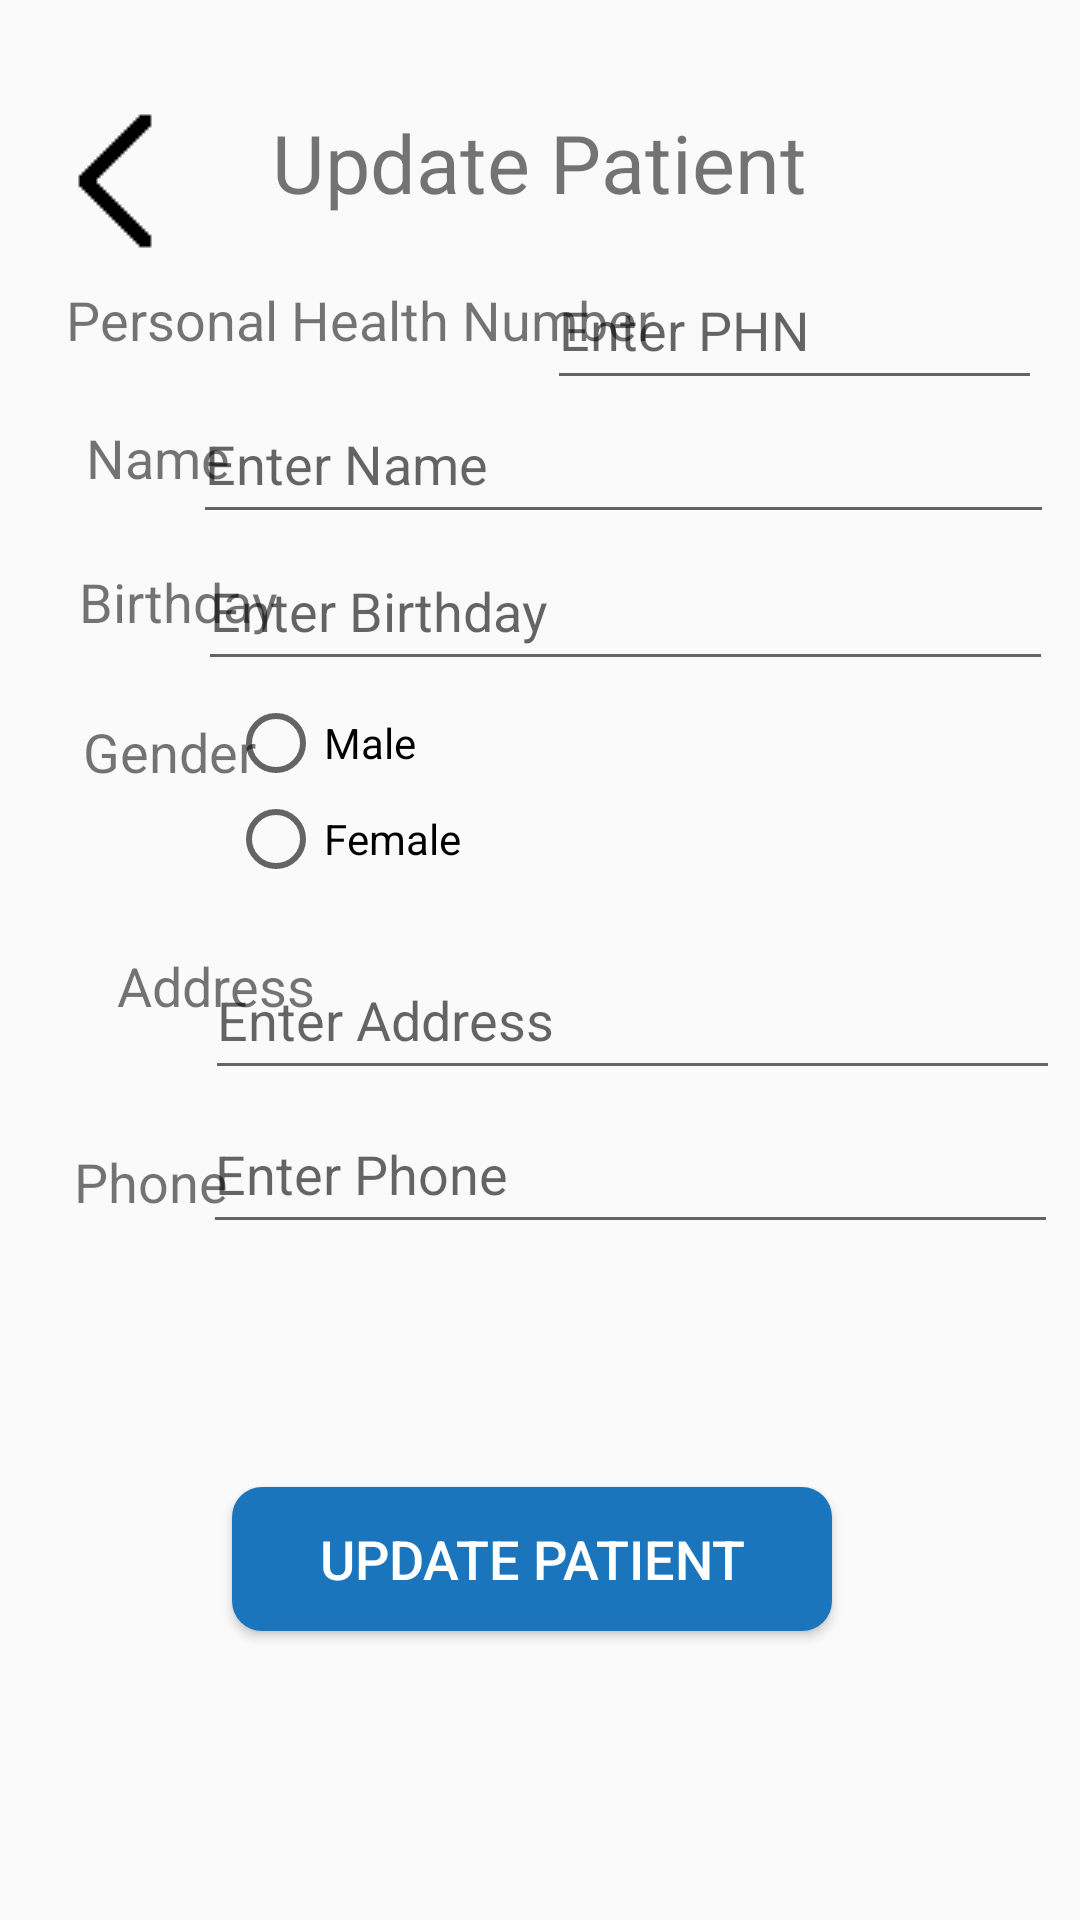

Icons on this 1080×1920 Android screen, each with the point to tap as [x,y]:
Back: [115,181]
